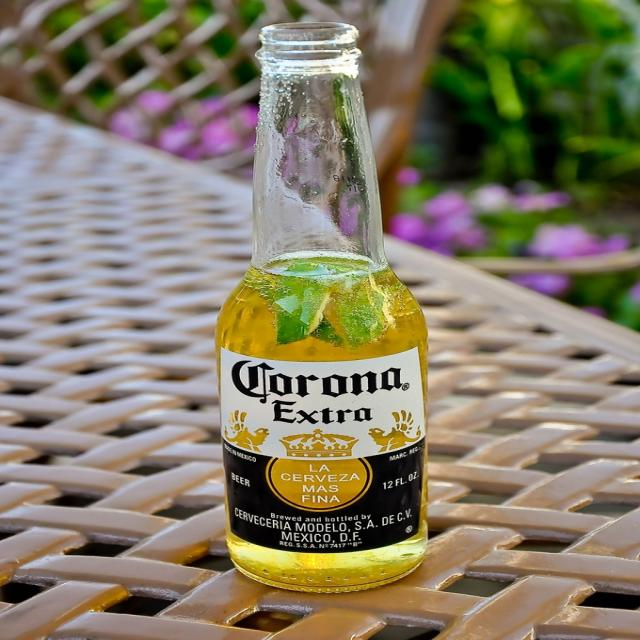corona: (221, 348, 429, 555)
